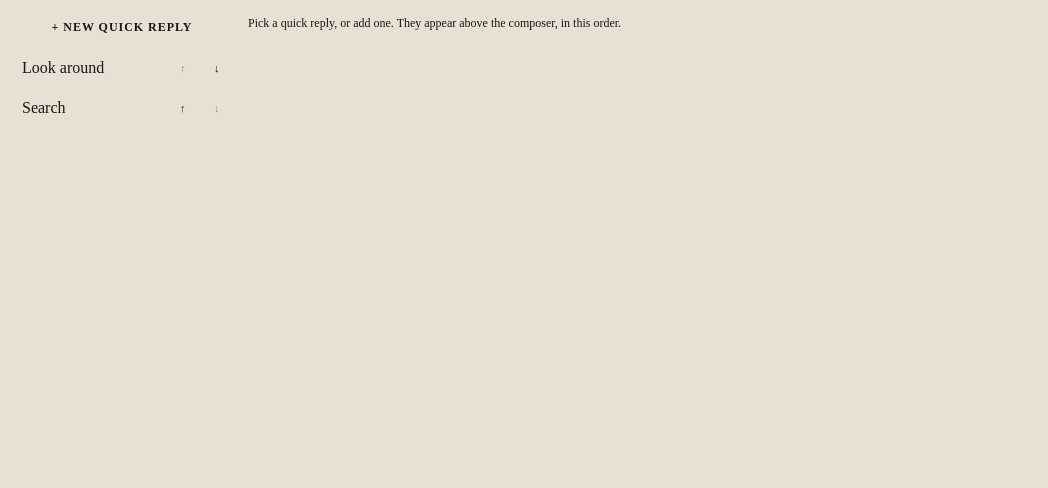
Edit reveals the form
The image size is (1048, 488).
Click the button "Look around" at (88, 68), box [12,51,164,85]
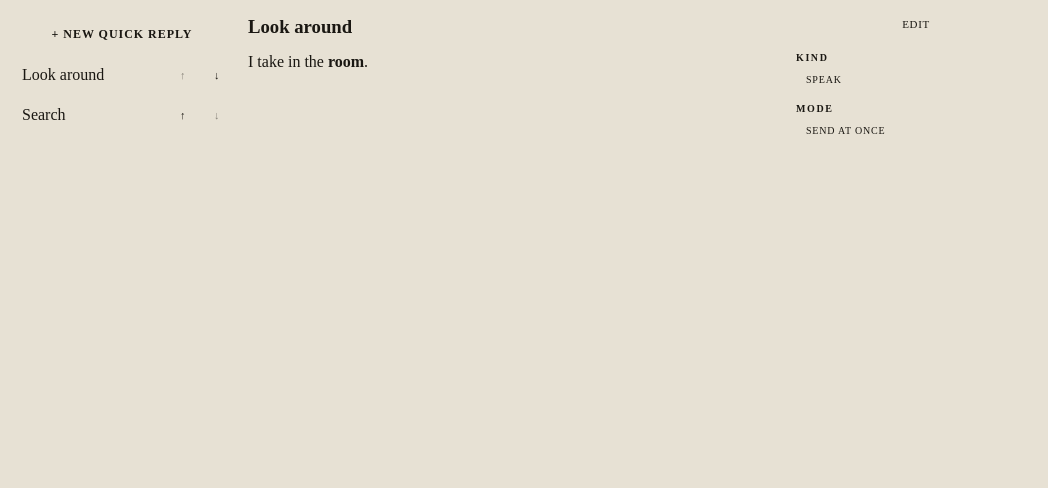
Click the button "Edit" at (916, 24), box [796,12,1036,36]
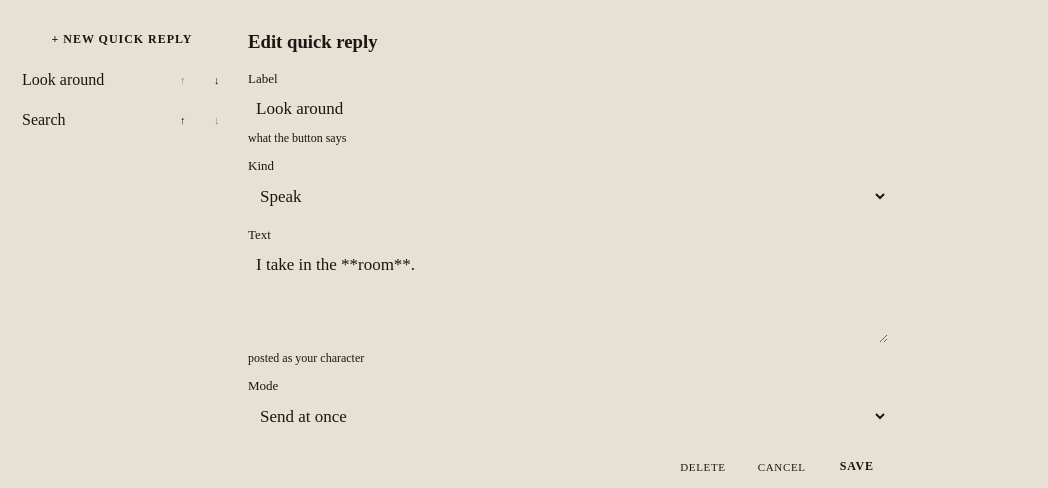
Now the field labelled "Label" holds "Look around", box [248,91,888,127]
Now the text box labelled "Text" holds "I take in the **room**.", box [248,247,888,343]
